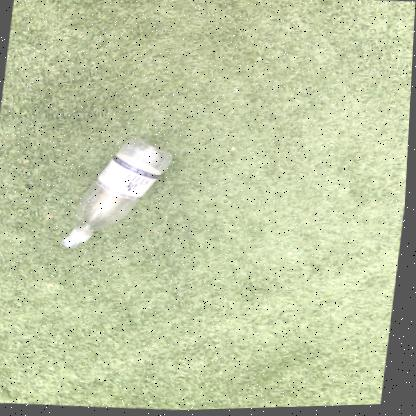Plastic: (65, 138, 174, 248)
